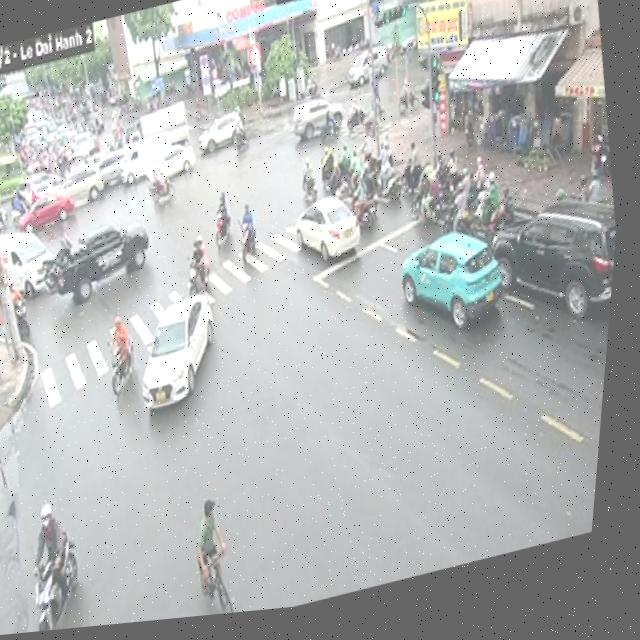Green: (374, 5, 416, 45), (426, 62, 452, 123)
